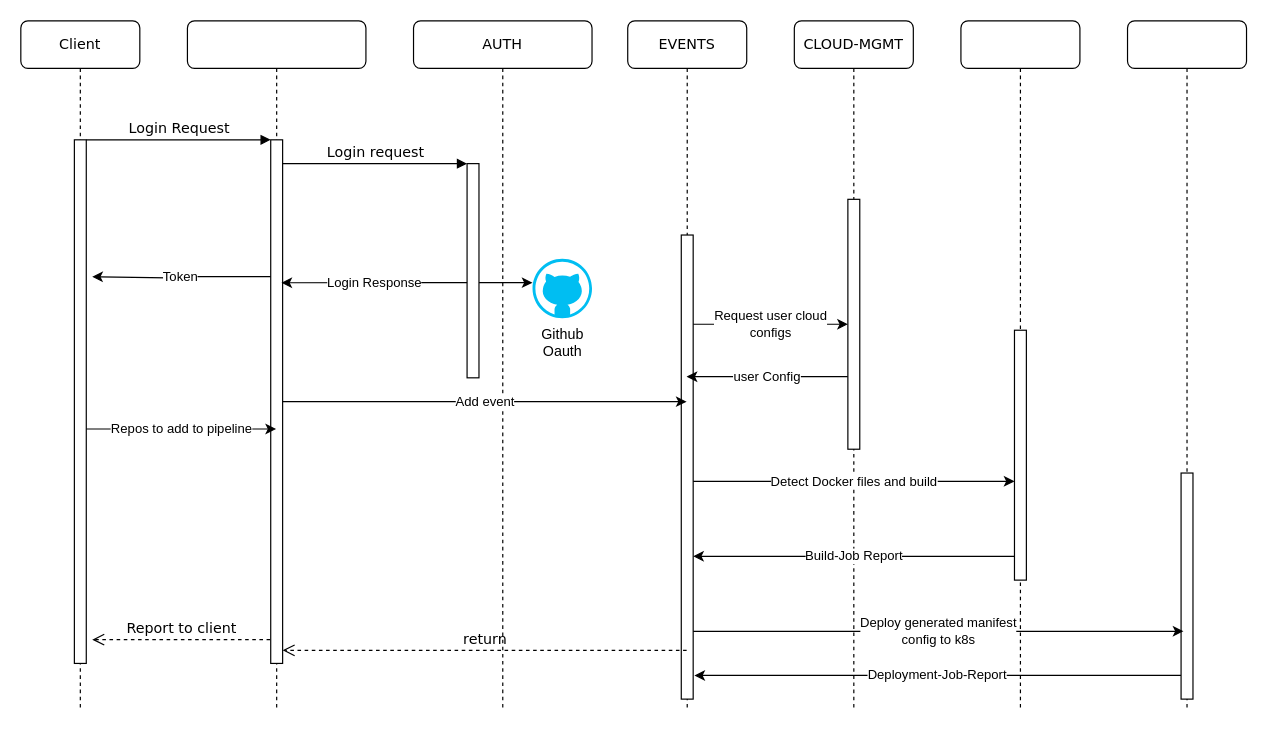
Image size: 1267x732. Some labels were removed from this diagram. Here are the shapes that lost their labels. From the top down, the box of each, then its label:
(186, 20, 366, 711): API-Gateway
(960, 20, 1080, 711): CI-SERVICE
(1126, 20, 1247, 711): CD-Service
